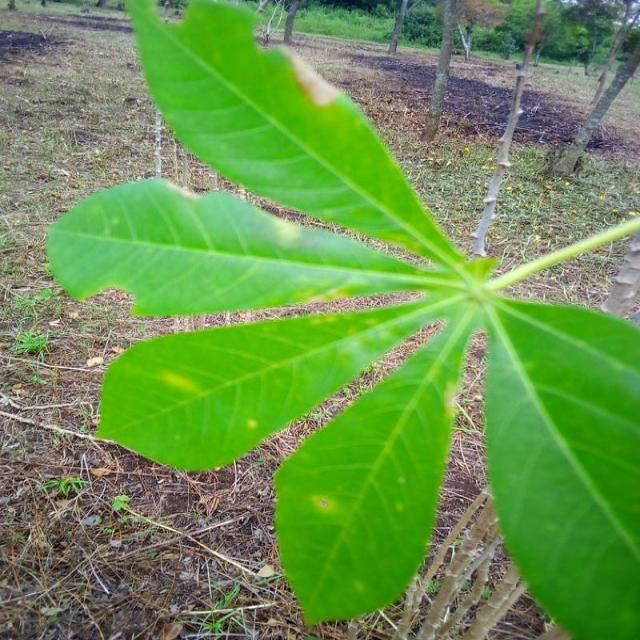cassava leaf: (44, 0, 638, 638), (124, 0, 467, 274), (93, 294, 450, 472), (44, 175, 461, 317), (482, 292, 638, 638)
